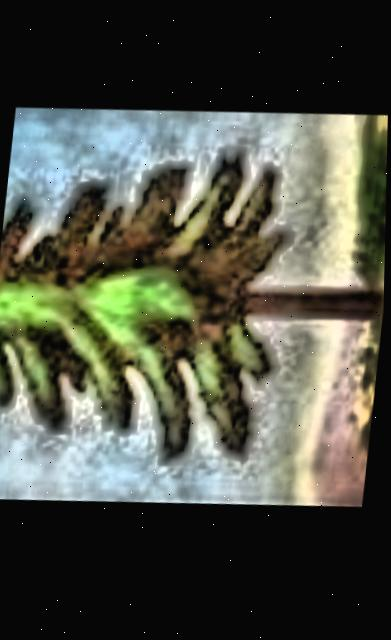El Pino: (0, 87, 389, 531)
